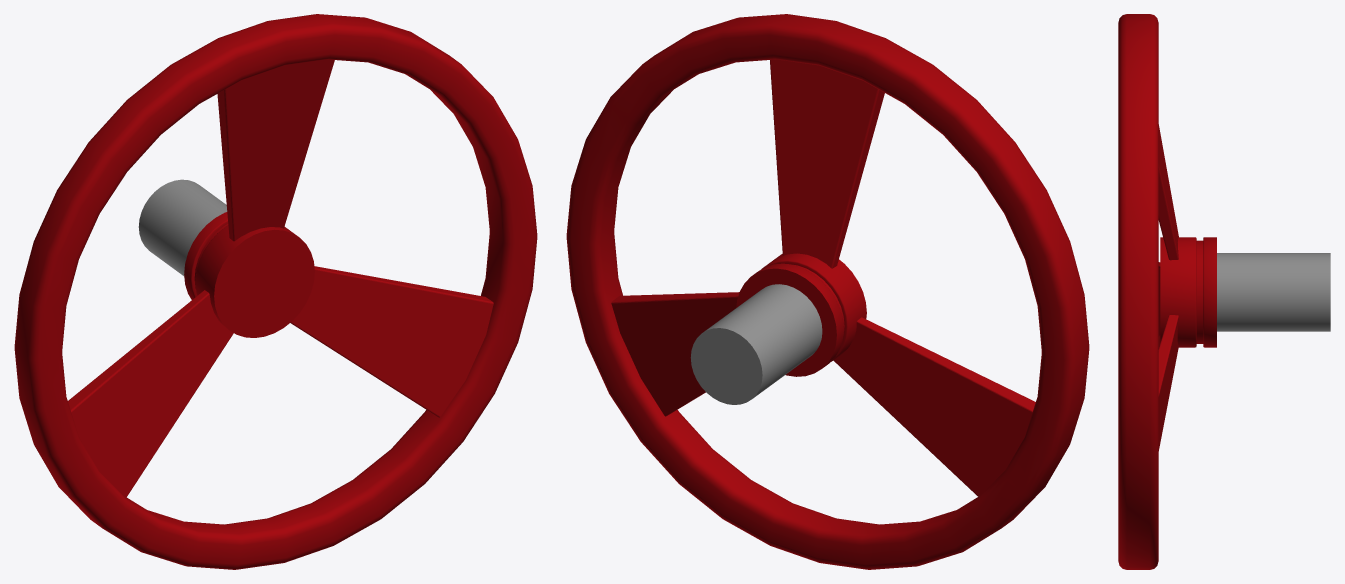
File: CircularValve.fbx
The picture shows the model from 3 angles, left to right: view 1: azimuth 30°, elevation 25°; view 2: azimuth 150°, elevation 25°; view 3: azimuth 270°, elevation 25°; orthographic projection. The views are drawn at different scales.
Visible parts, largest first — view 1: Circular_Valve, Circular_Valve_Pipe; view 2: Circular_Valve, Circular_Valve_Pipe; view 3: Circular_Valve, Circular_Valve_Pipe.
Boxes of the visible parts, <box> form: Circular_Valve: <box>14,14,537,569</box>; Circular_Valve_Pipe: <box>138,179,227,276</box>; Circular_Valve: <box>566,14,1089,569</box>; Circular_Valve_Pipe: <box>690,284,822,404</box>; Circular_Valve: <box>1118,14,1216,569</box>; Circular_Valve_Pipe: <box>1217,253,1330,331</box>.
Size of the model in its own units: 403 by 403 by 154.
